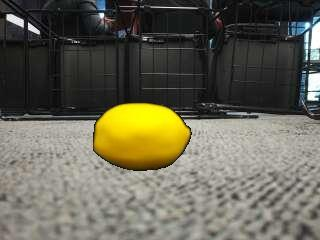lemon: (94, 104, 189, 170)
